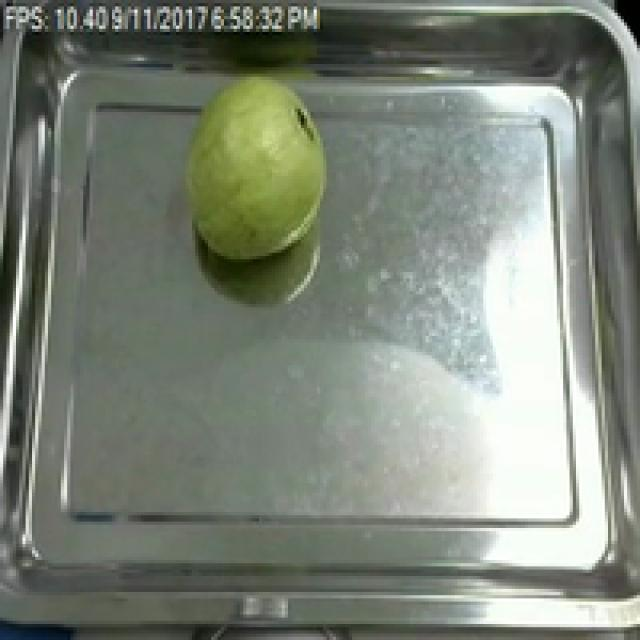Fruit: (173, 70, 339, 269)
